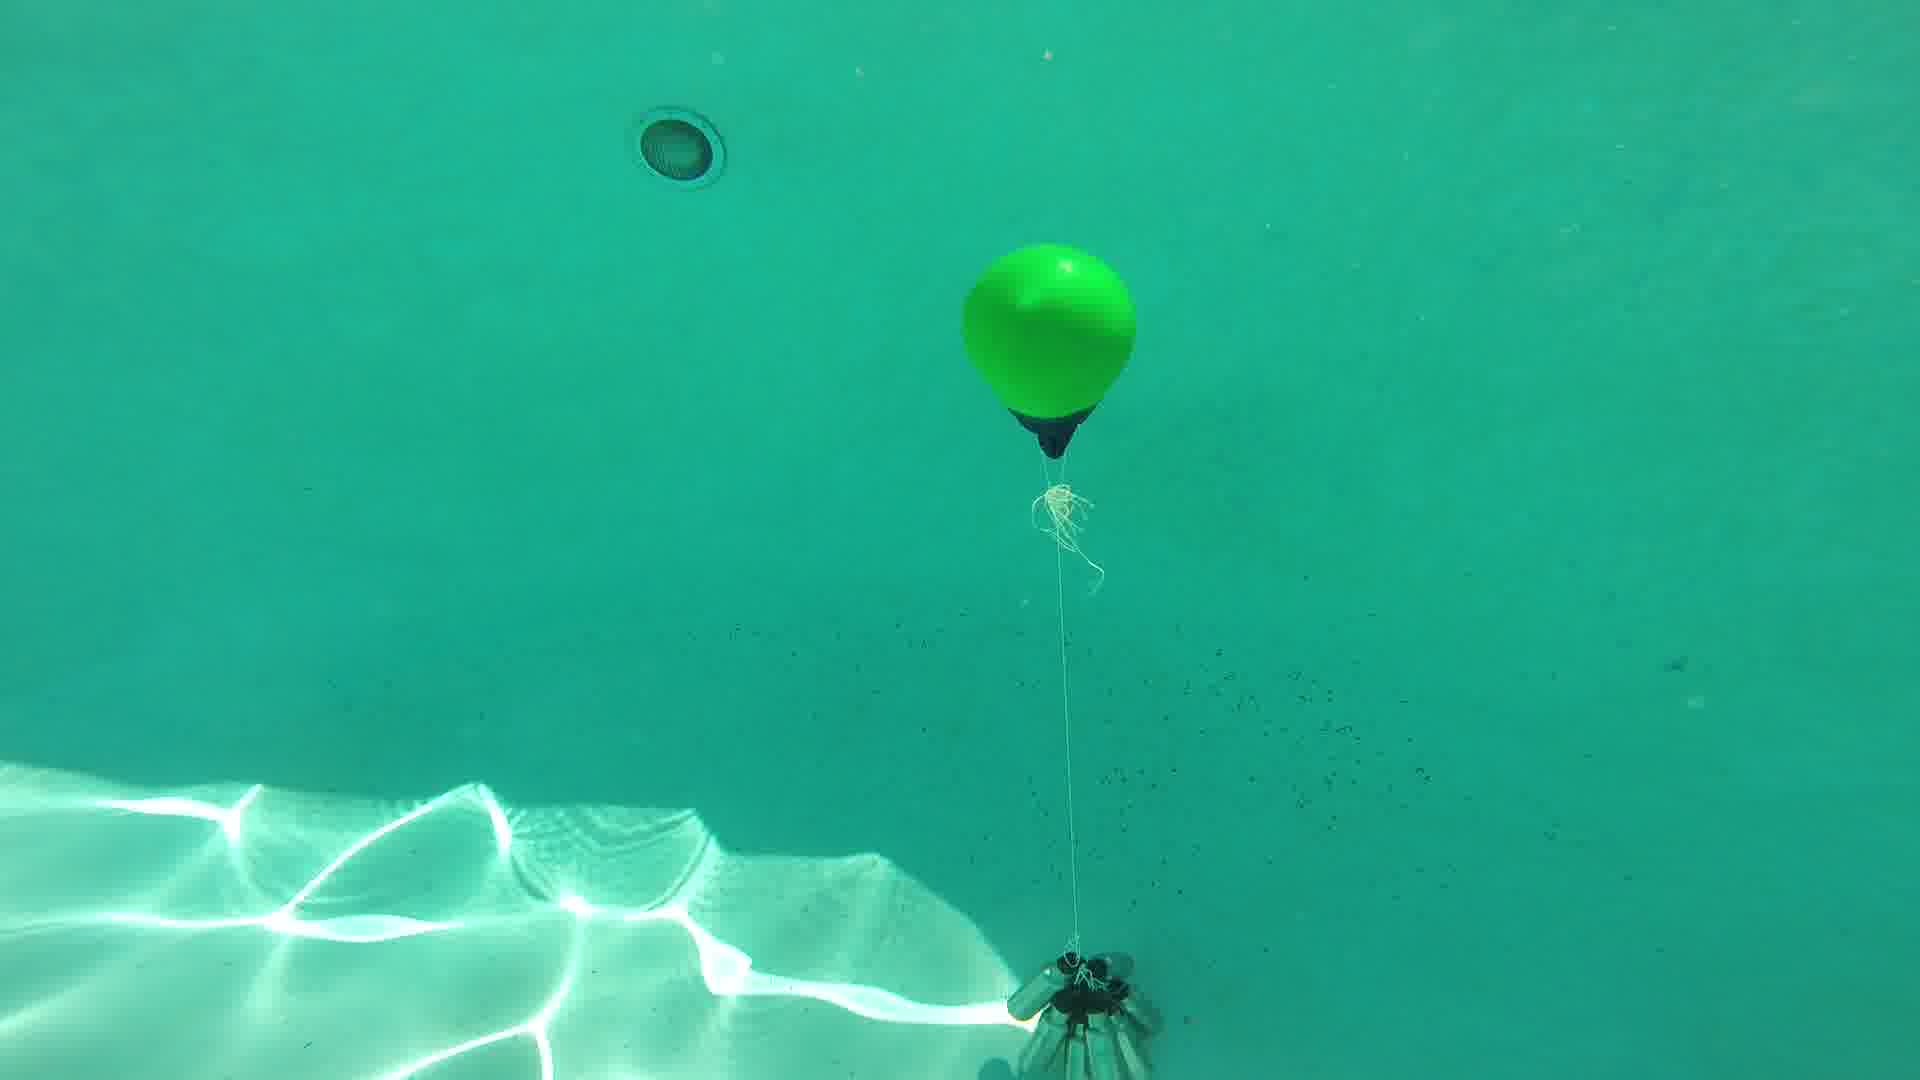yellow_buoy: (957, 239, 1138, 460)
